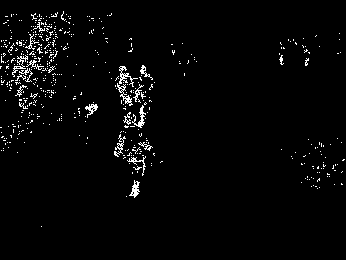person: (114, 112, 150, 197), (112, 64, 134, 110), (135, 63, 153, 111)
